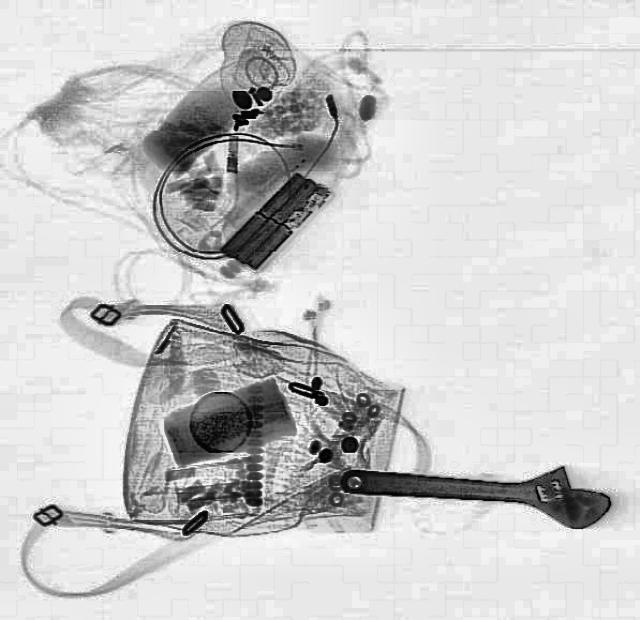Wrench: (336, 449, 614, 531)
